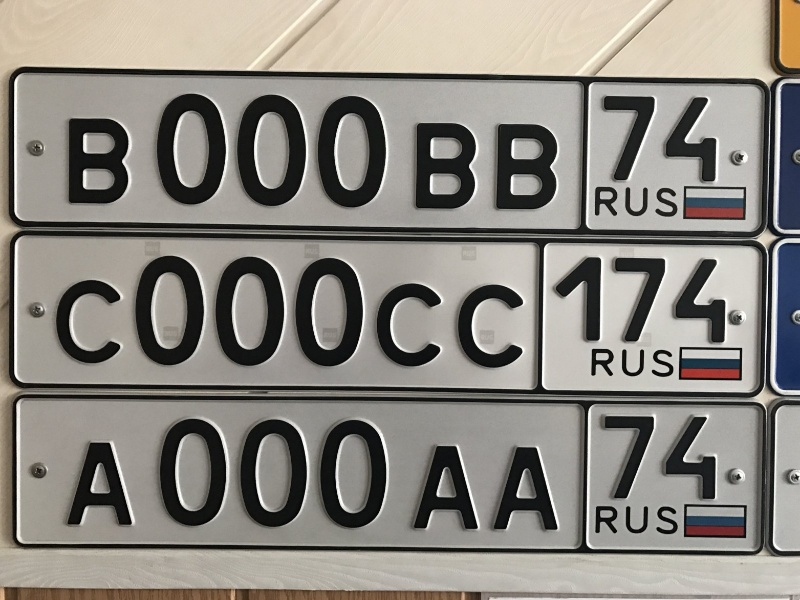plate: (9, 66, 771, 238), (11, 390, 766, 561), (9, 231, 767, 400)
